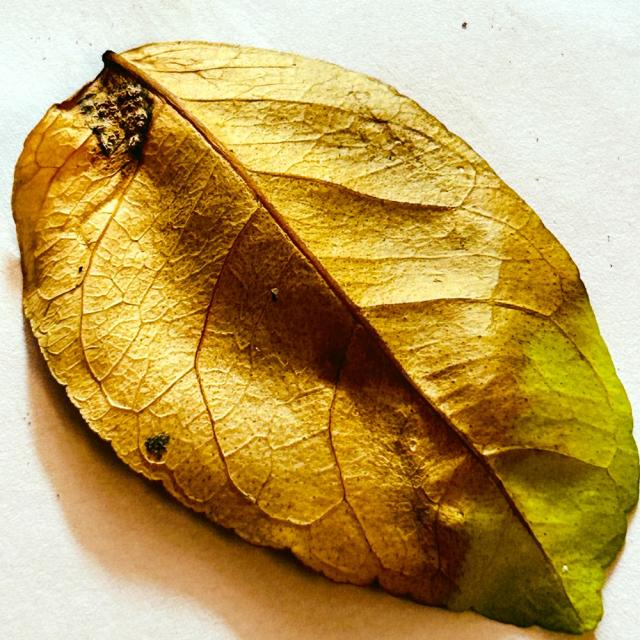DryLeaf_Lemon: (12, 42, 589, 609)
